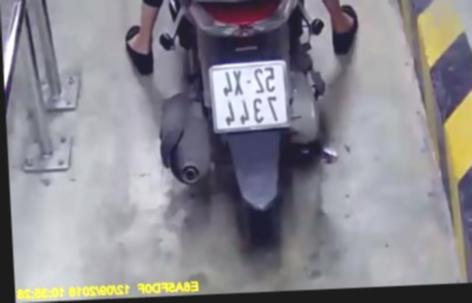License_Plate: (203, 57, 298, 140)
